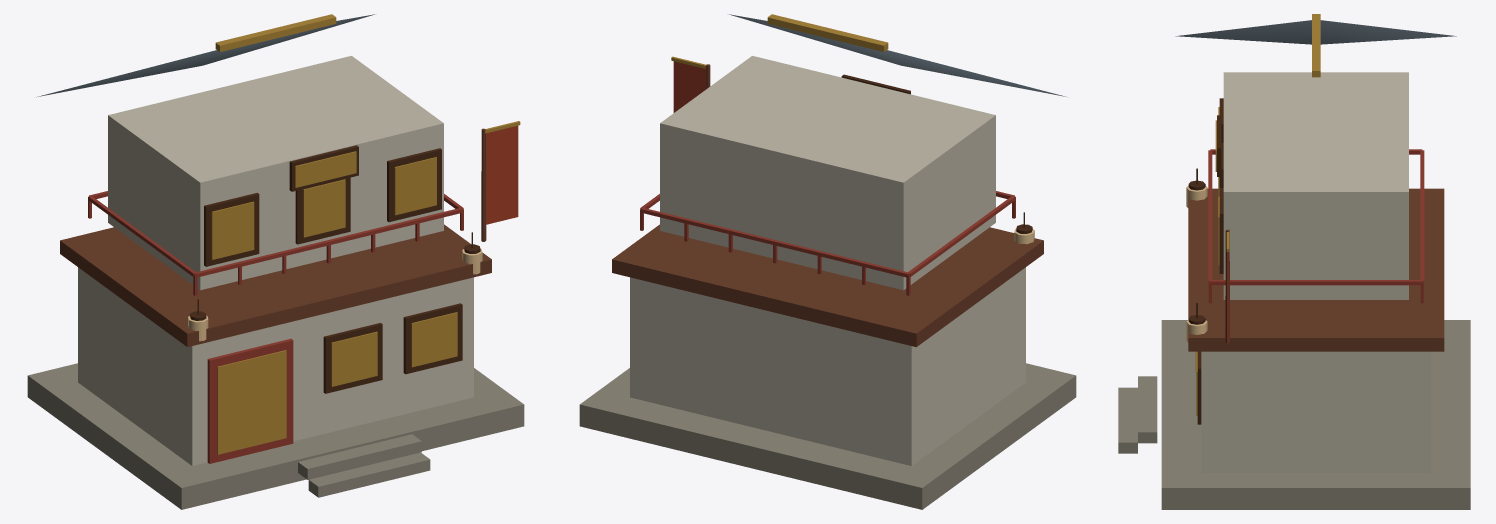
File: tang-inn.glb
The picture shows the model from 3 angles, left to right: view 1: azimuth 30°, elevation 25°; view 2: azimuth 150°, elevation 25°; view 3: azimuth 270°, elevation 25°; orthographic projection.
Visible parts, largest first — view 1: tang-inn; view 2: tang-inn; view 3: tang-inn.
Part boxes in pixels (<box>): tang-inn: <box>27,14,524,509</box>; tang-inn: <box>579,14,1076,509</box>; tang-inn: <box>1118,14,1470,509</box>.
Size of the model in its own units: 10.24 by 9.59 by 8.22.
